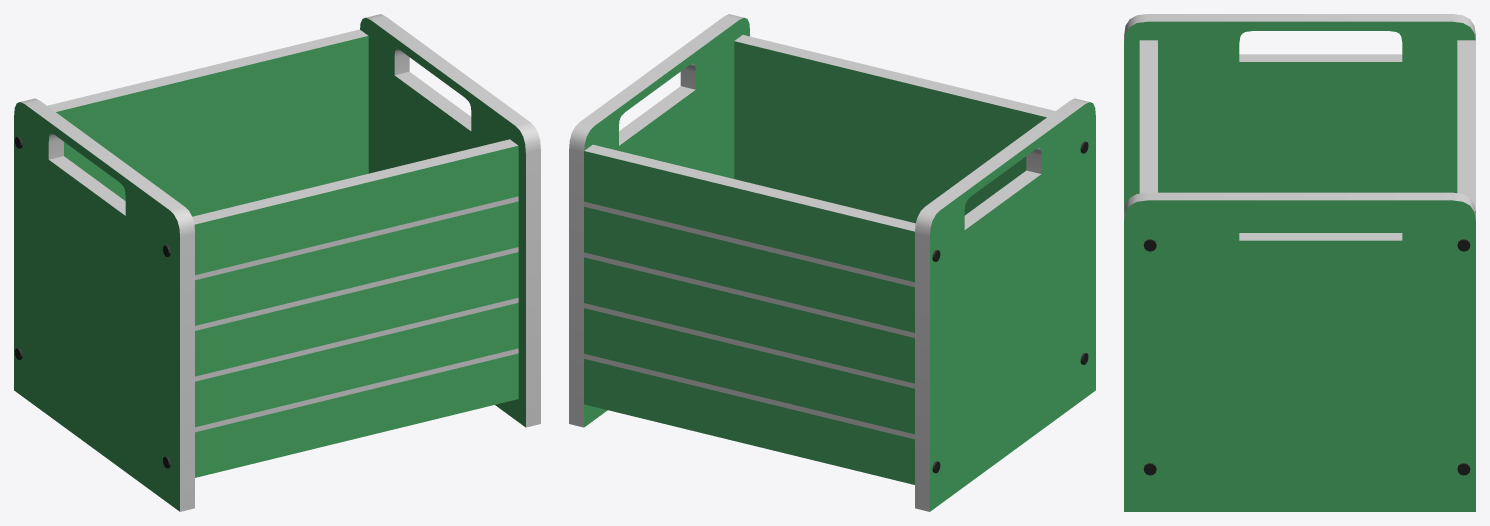
File: Caja-2.FBX
The picture shows the model from 3 angles, left to right: view 1: azimuth 30°, elevation 25°; view 2: azimuth 150°, elevation 25°; view 3: azimuth 270°, elevation 25°; orthographic projection. The views are drawn at different scales.
Visible parts, largest first — view 1: Caja001; view 2: Caja001; view 3: Caja001.
Boxes of the visible parts, x1,y1,x2,y2 form: Caja001: [14, 14, 540, 511]; Caja001: [569, 14, 1095, 511]; Caja001: [1124, 14, 1475, 511].
Size of the model in its own units: 68.83 by 54.3 by 53.06.
